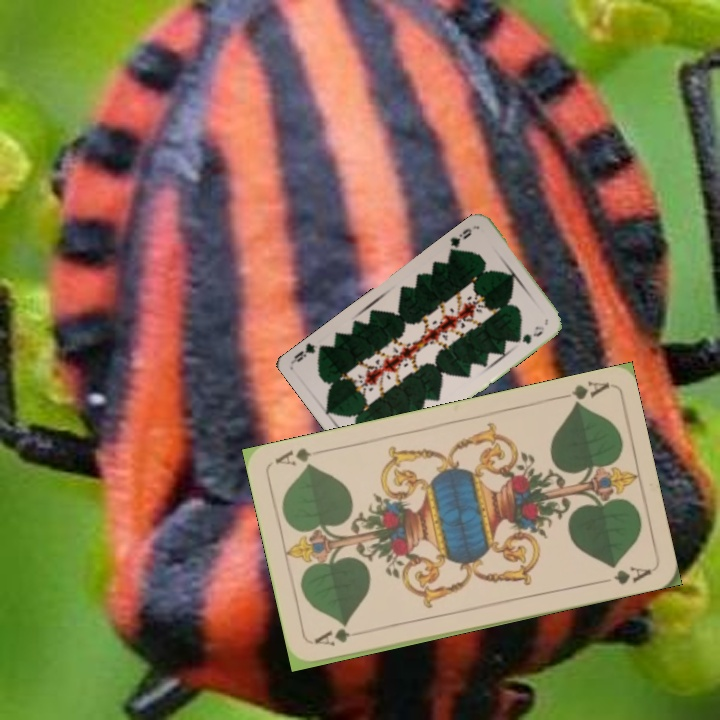G9: (445, 224, 474, 257)
GA: (552, 377, 611, 409), (310, 624, 353, 649)
